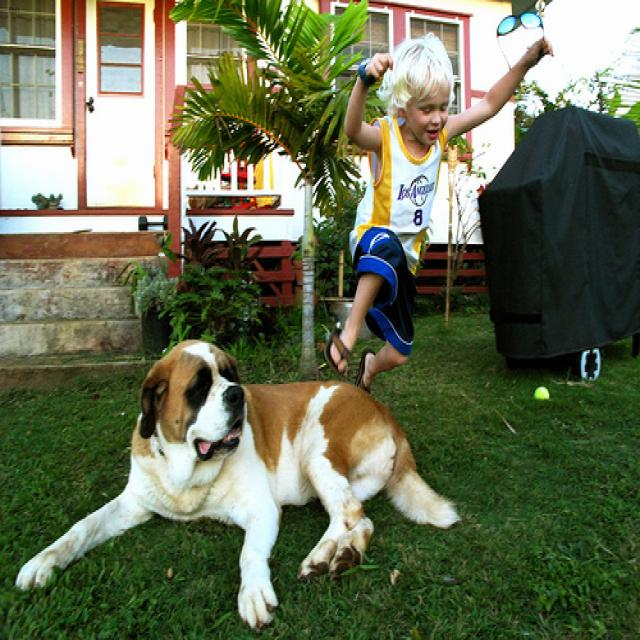dog: (138, 336, 251, 461)
